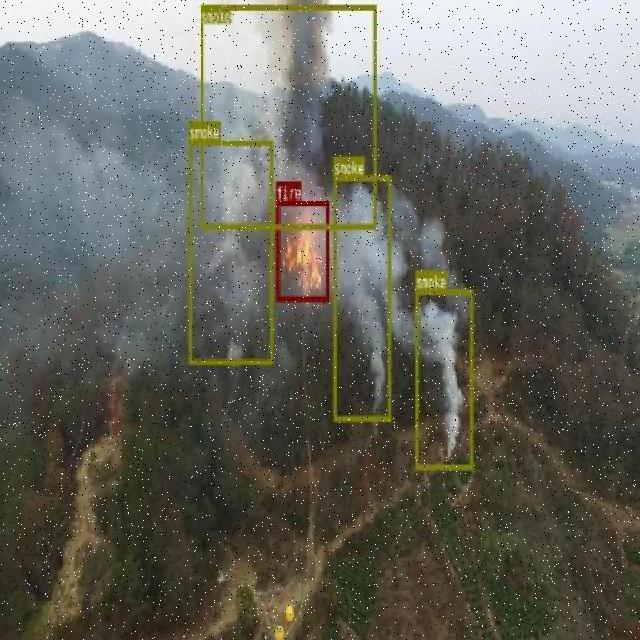Smoke: (231, 4, 344, 227), (188, 139, 272, 362), (333, 175, 390, 420), (415, 320, 473, 437)
